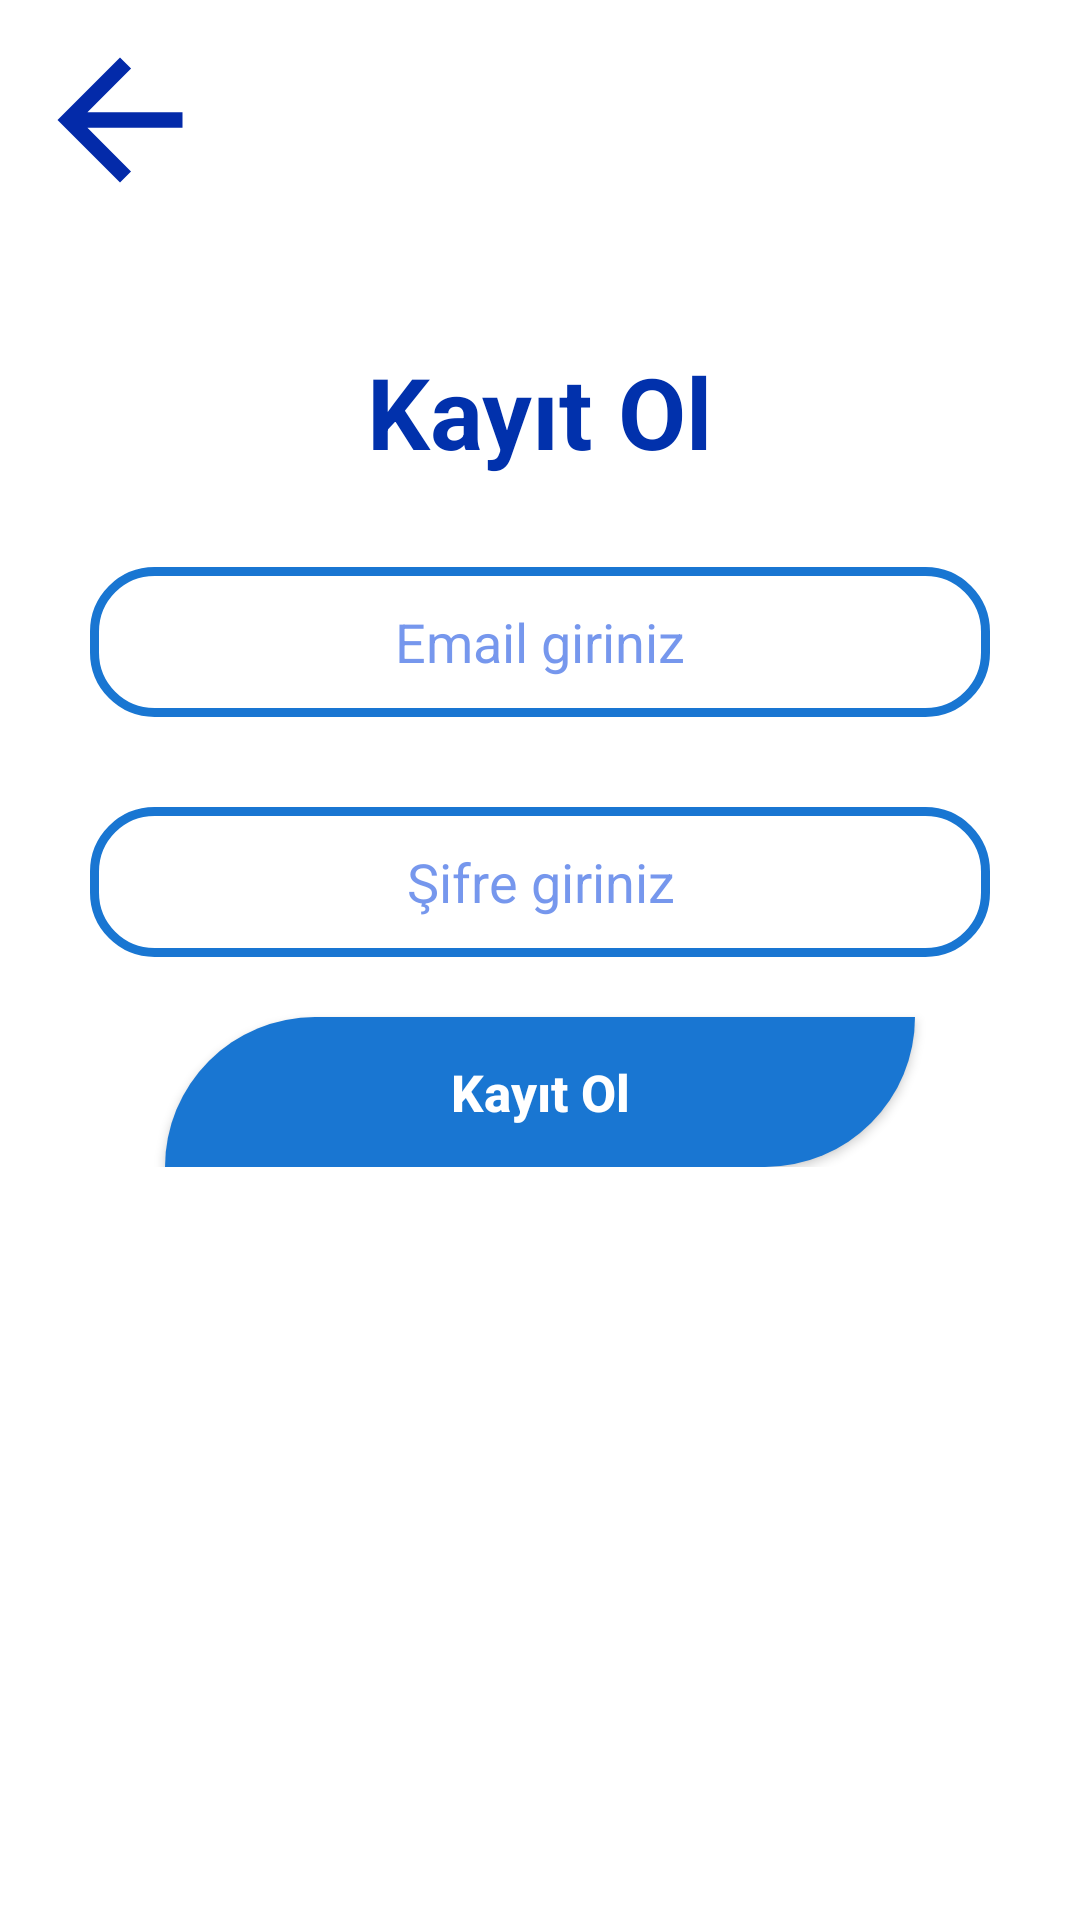

Screen size 1080x1920. Icon name, then its box in pixels as (x1, y1, x2, y2):
back: (57, 57, 183, 183)
